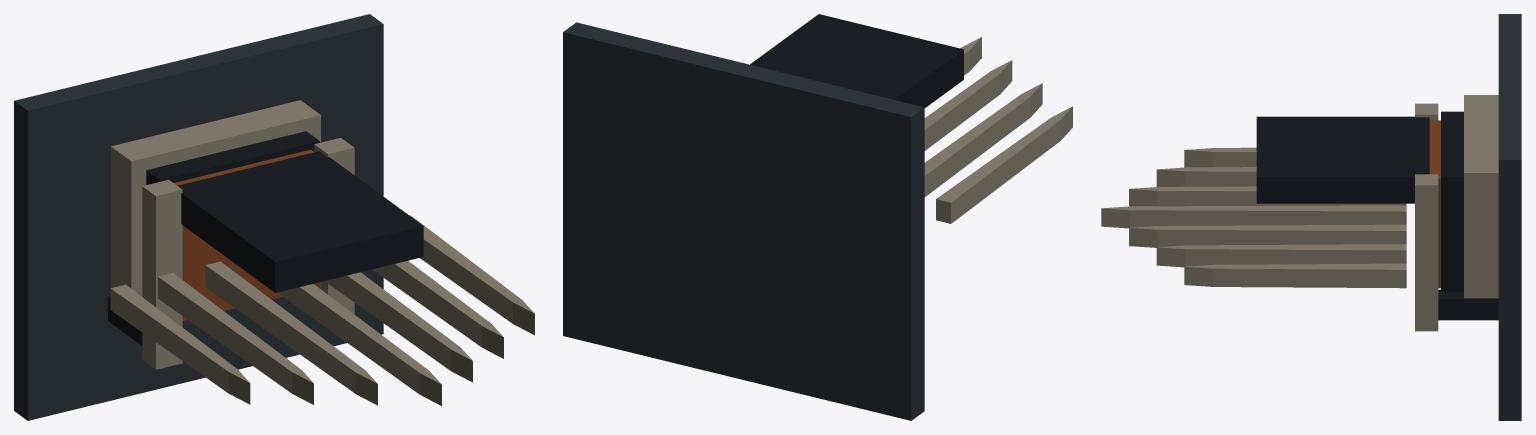
Rendered from SM_AEON_BlackThrone.obj.
3 renders of one model, left to right at view 1: azimuth 30°, elevation 25°; view 2: azimuth 150°, elevation 25°; view 3: azimuth 270°, elevation 25°, orthographic. The views are drawn at different scales.
Parts seen in each view (by area): view 1: SM_AEON_BlackThrone; view 2: SM_AEON_BlackThrone; view 3: SM_AEON_BlackThrone.
Part boxes in pixels (x1,y1,x2,y2): SM_AEON_BlackThrone: [14, 14, 534, 420]; SM_AEON_BlackThrone: [563, 14, 1072, 420]; SM_AEON_BlackThrone: [1101, 14, 1521, 420].
Bounding box in the file's own units: 600 × 500 × 730.
